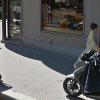Motorcycle: (58, 48, 100, 100)
